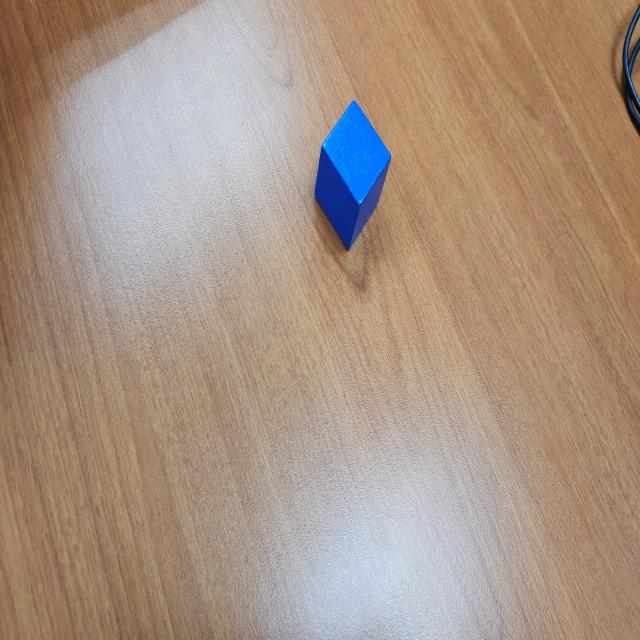blue: (314, 100, 392, 252)
